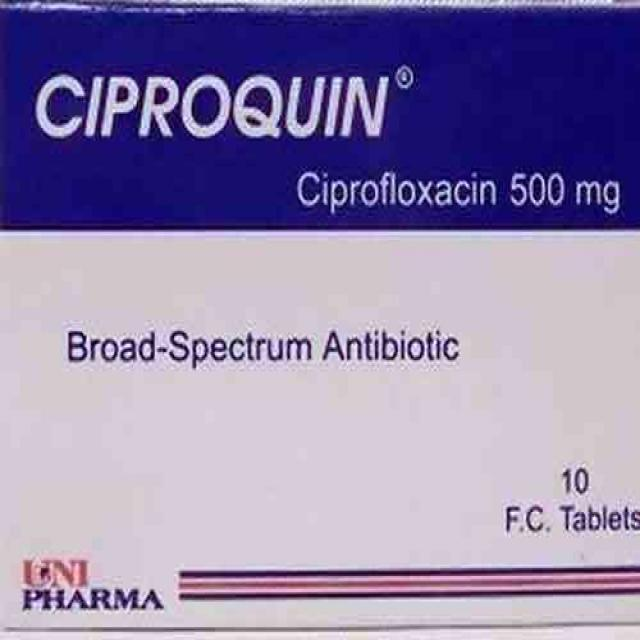drug-name: (37, 70, 390, 140)
